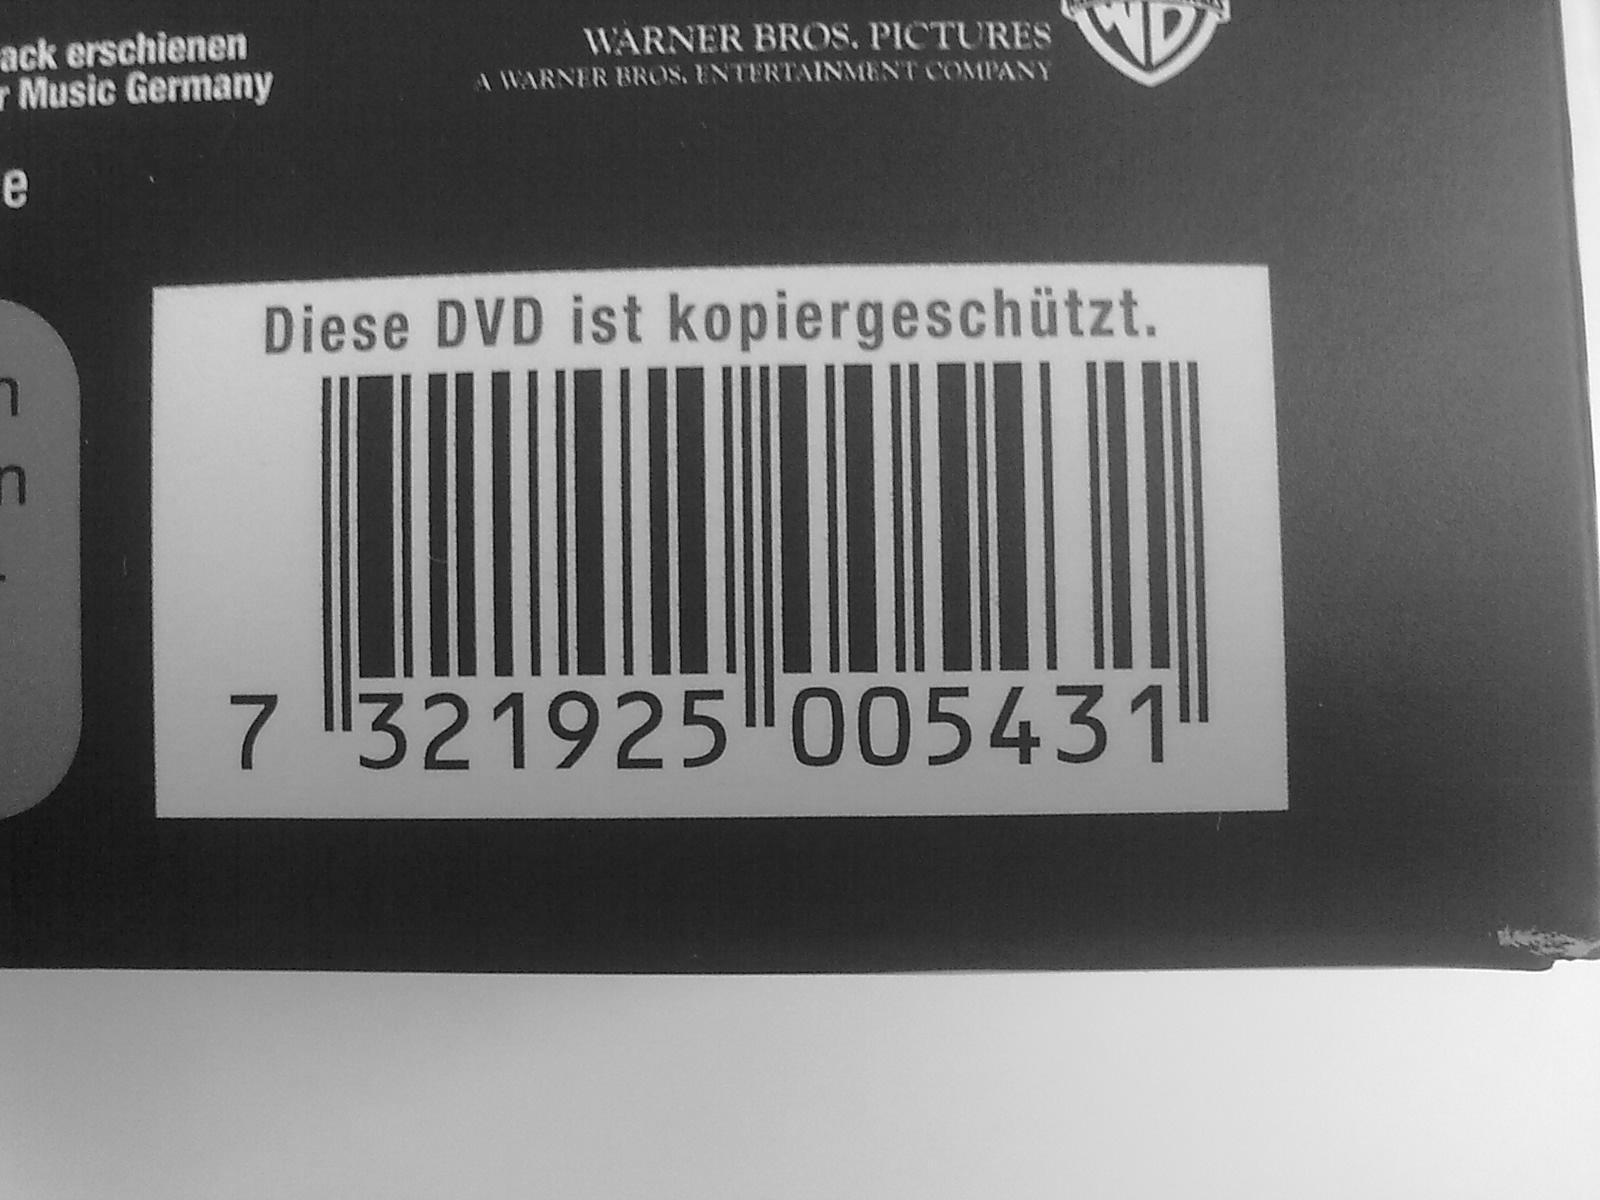Barcode: (193, 294, 1264, 792)
